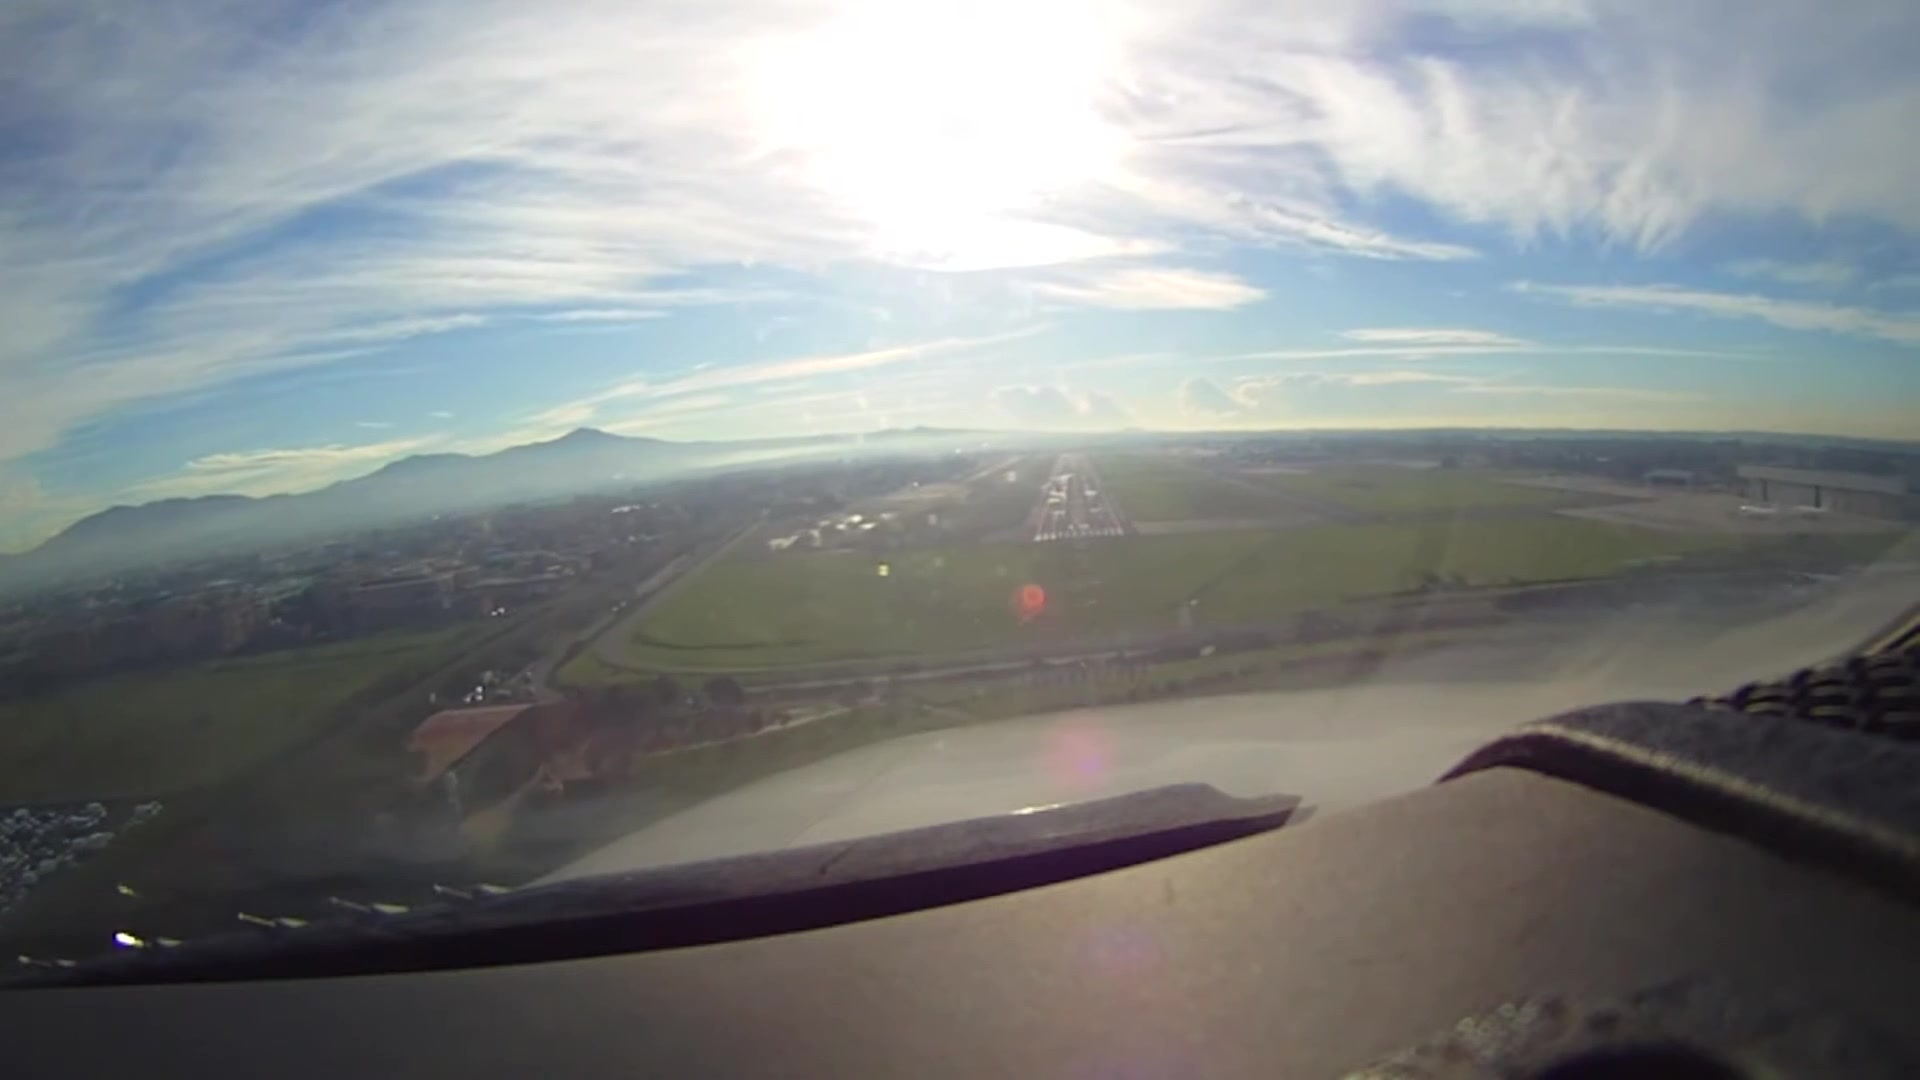entrance: (1036, 525, 1126, 541)
runway: (1029, 454, 1131, 545)
